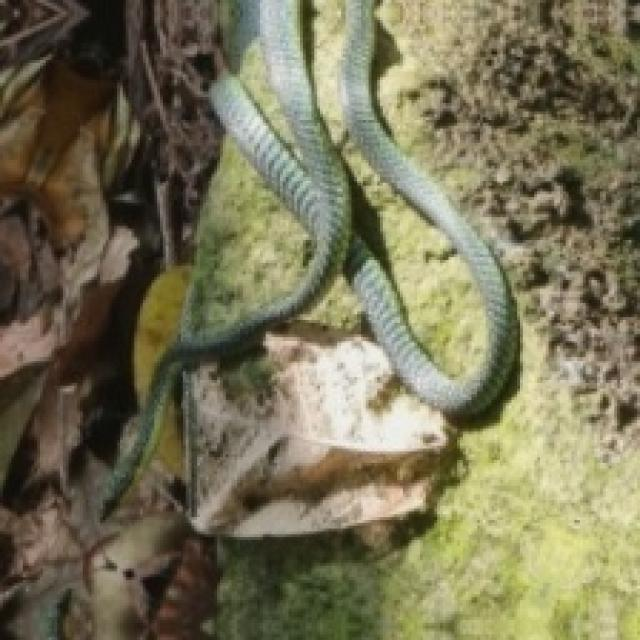paradise tree snake: (106, 0, 514, 506)
